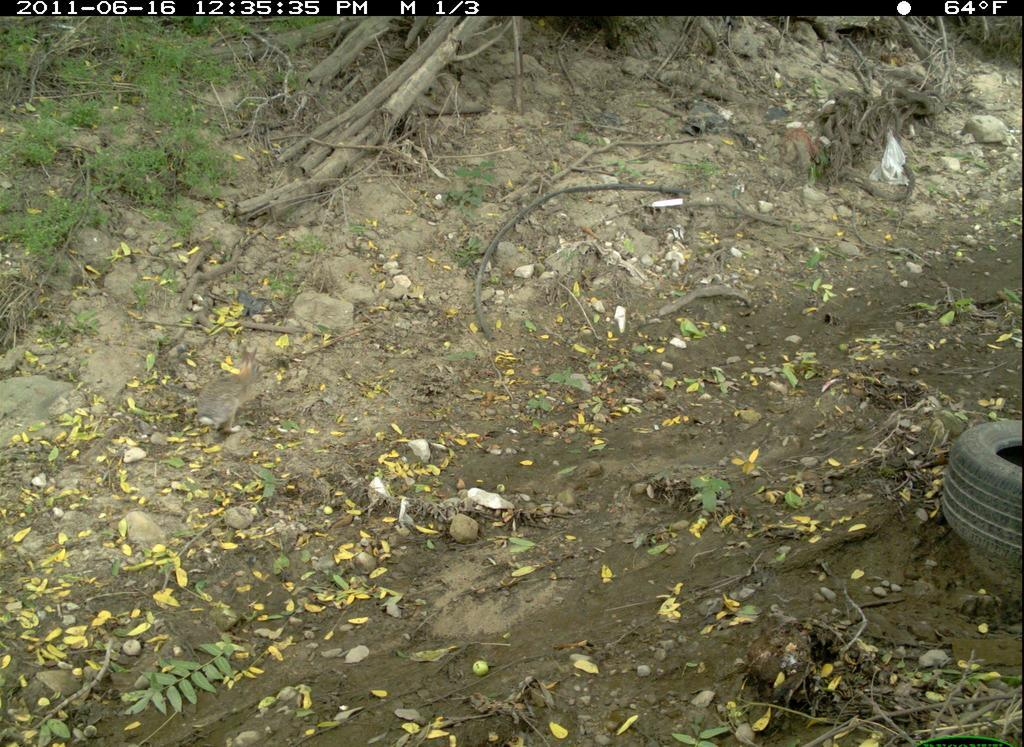rabbit: (185, 340, 277, 441)
